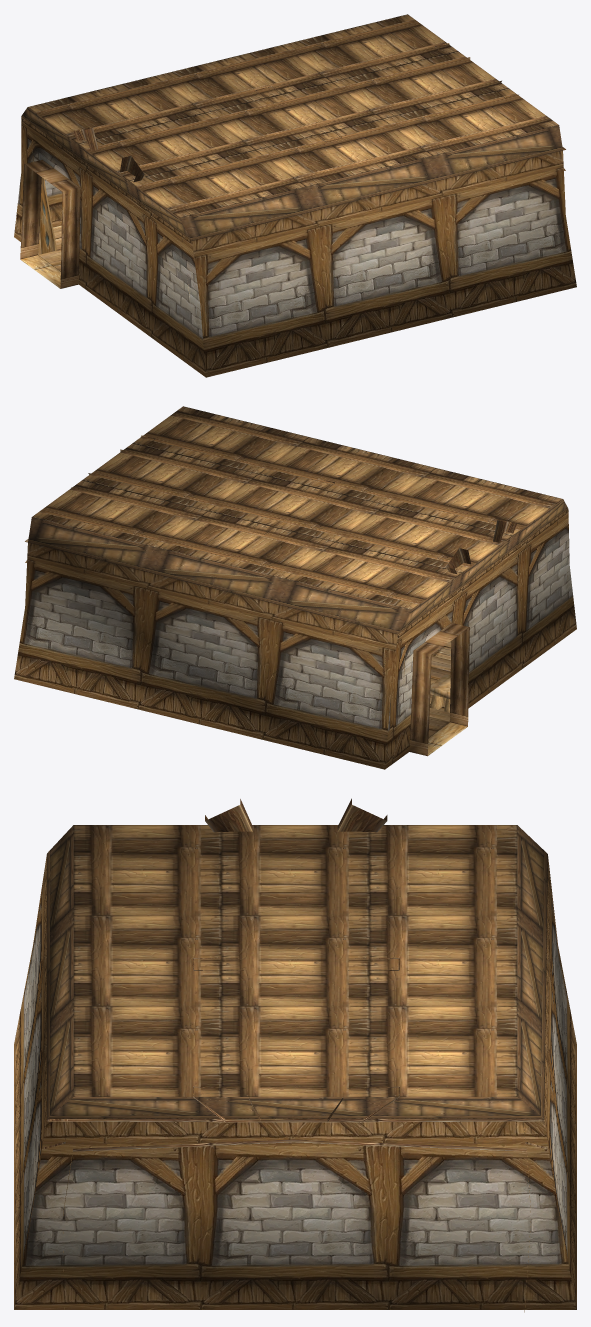
The model's file is stormwind_076.fbx.
The picture shows the model from 3 angles, top to bottom: view 1: azimuth 30°, elevation 25°; view 2: azimuth 150°, elevation 25°; view 3: azimuth 270°, elevation 25°; orthographic projection. The views are drawn at different scales.
Parts seen in each view (by area): view 1: stormwind_076_87, stormwind_076_55, stormwind_076_56, stormwind_076_49, stormwind_076_53; view 2: stormwind_076_87, stormwind_076_55, stormwind_076_56, stormwind_076_49, stormwind_076_53, stormwind_076_51, stormwind_076_54; view 3: stormwind_076_55, stormwind_076_87, stormwind_076_56, stormwind_076_53.
Part boxes in pixels (<box>): stormwind_076_87: <box>14,117,576,377</box>; stormwind_076_55: <box>28,14,558,217</box>; stormwind_076_56: <box>21,107,562,240</box>; stormwind_076_49: <box>20,159,80,288</box>; stormwind_076_53: <box>20,43,565,296</box>; stormwind_076_87: <box>14,509,576,769</box>; stormwind_076_55: <box>32,406,562,609</box>; stormwind_076_56: <box>28,499,568,634</box>; stormwind_076_49: <box>409,622,469,755</box>; stormwind_076_53: <box>25,435,559,755</box>; stormwind_076_51: <box>428,641,451,737</box>; stormwind_076_54: <box>430,674,450,712</box>; stormwind_076_55: <box>73,825,517,1096</box>; stormwind_076_87: <box>14,854,576,1309</box>; stormwind_076_56: <box>47,825,547,1118</box>; stormwind_076_53: <box>43,798,572,1312</box>.
Bounding box in the file's own units: 17.76 × 7.12 × 14.96.
